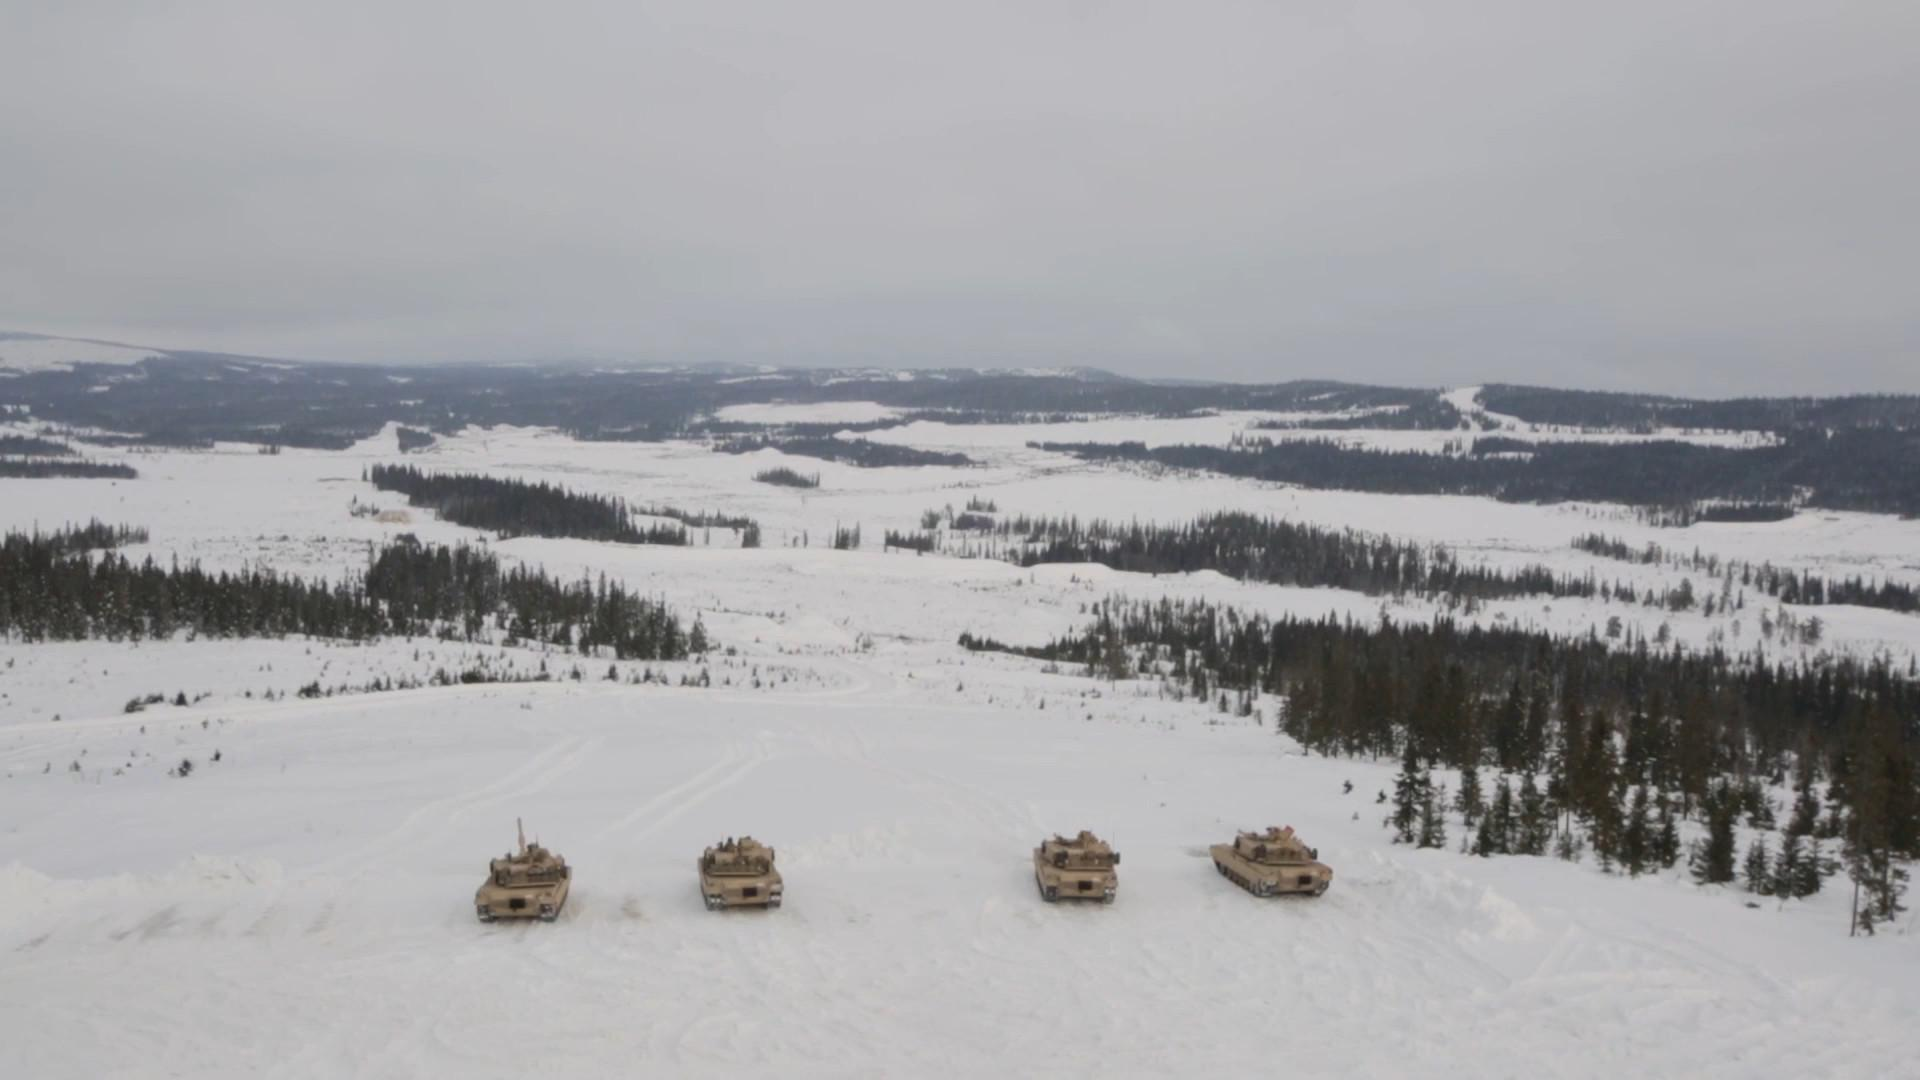tank: (475, 816, 571, 923), (1211, 825, 1332, 897), (698, 836, 783, 911), (1033, 831, 1120, 903)
